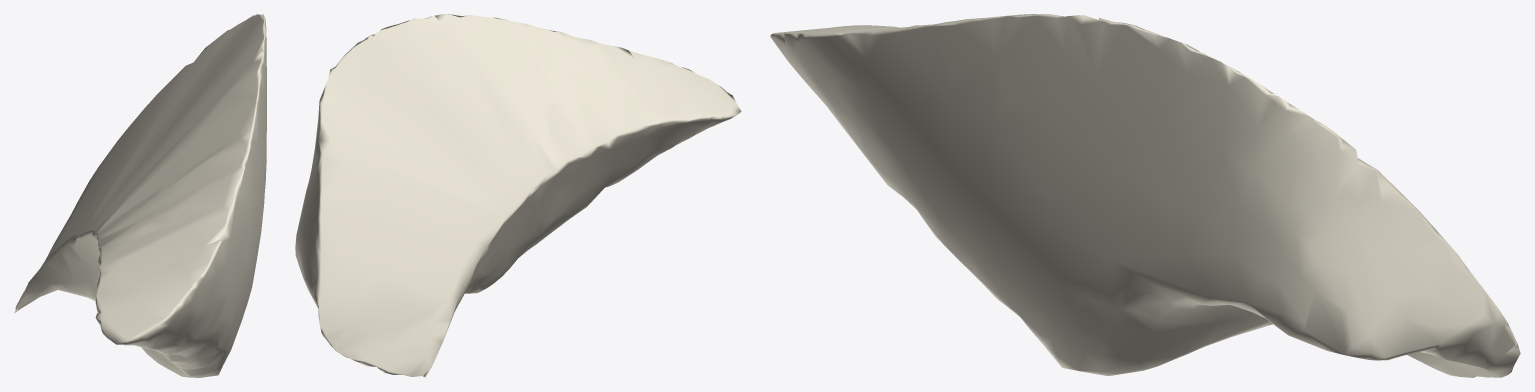
Rendered from fma54678_mm947.glb.
3 views of the same model, side by side, from view 1: azimuth 30°, elevation 25°; view 2: azimuth 150°, elevation 25°; view 3: azimuth 270°, elevation 25° (orthographic). The views are drawn at different scales.
Visible parts, largest first — view 1: FMA54678_MM947; view 2: FMA54678_MM947; view 3: FMA54678_MM947.
Boxes of the visible parts, x1=… form: FMA54678_MM947: x1=14, y1=14, x2=266, y2=377; FMA54678_MM947: x1=295, y1=14, x2=741, y2=377; FMA54678_MM947: x1=770, y1=14, x2=1520, y2=377.
Bounding box in the file's own units: 0.0112 × 0.0104 × 0.0167.
